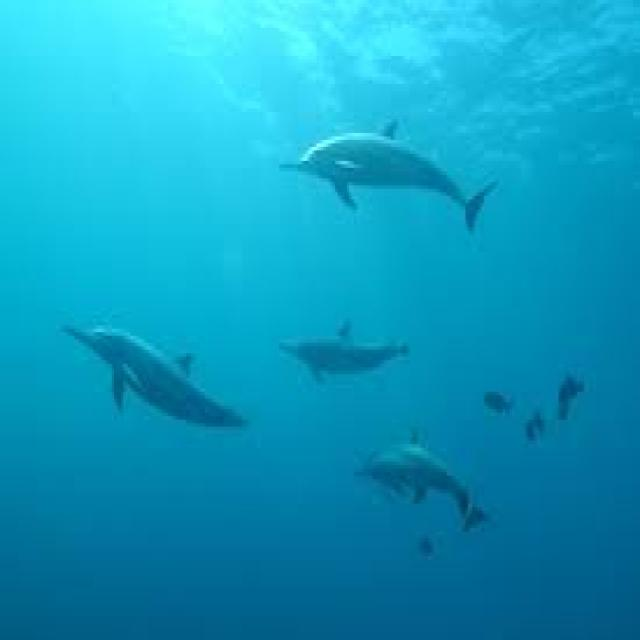dolphin: (237, 108, 510, 276), (56, 300, 244, 482), (354, 423, 488, 570), (267, 294, 423, 402)
